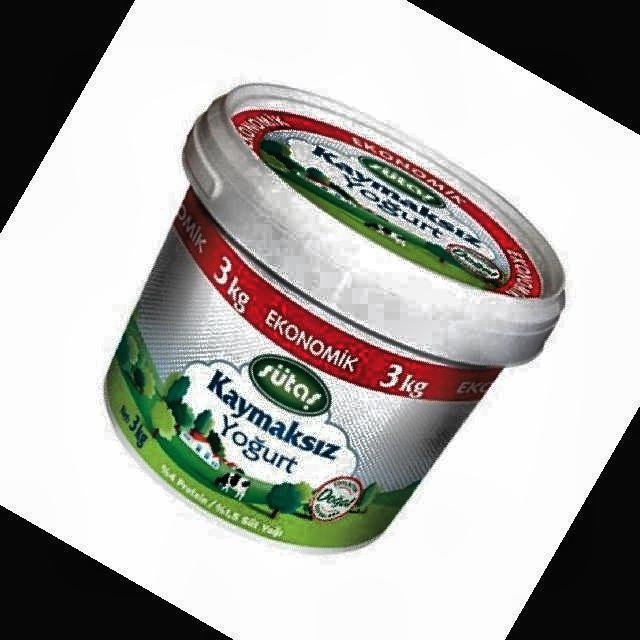plastic: (105, 85, 564, 548)
